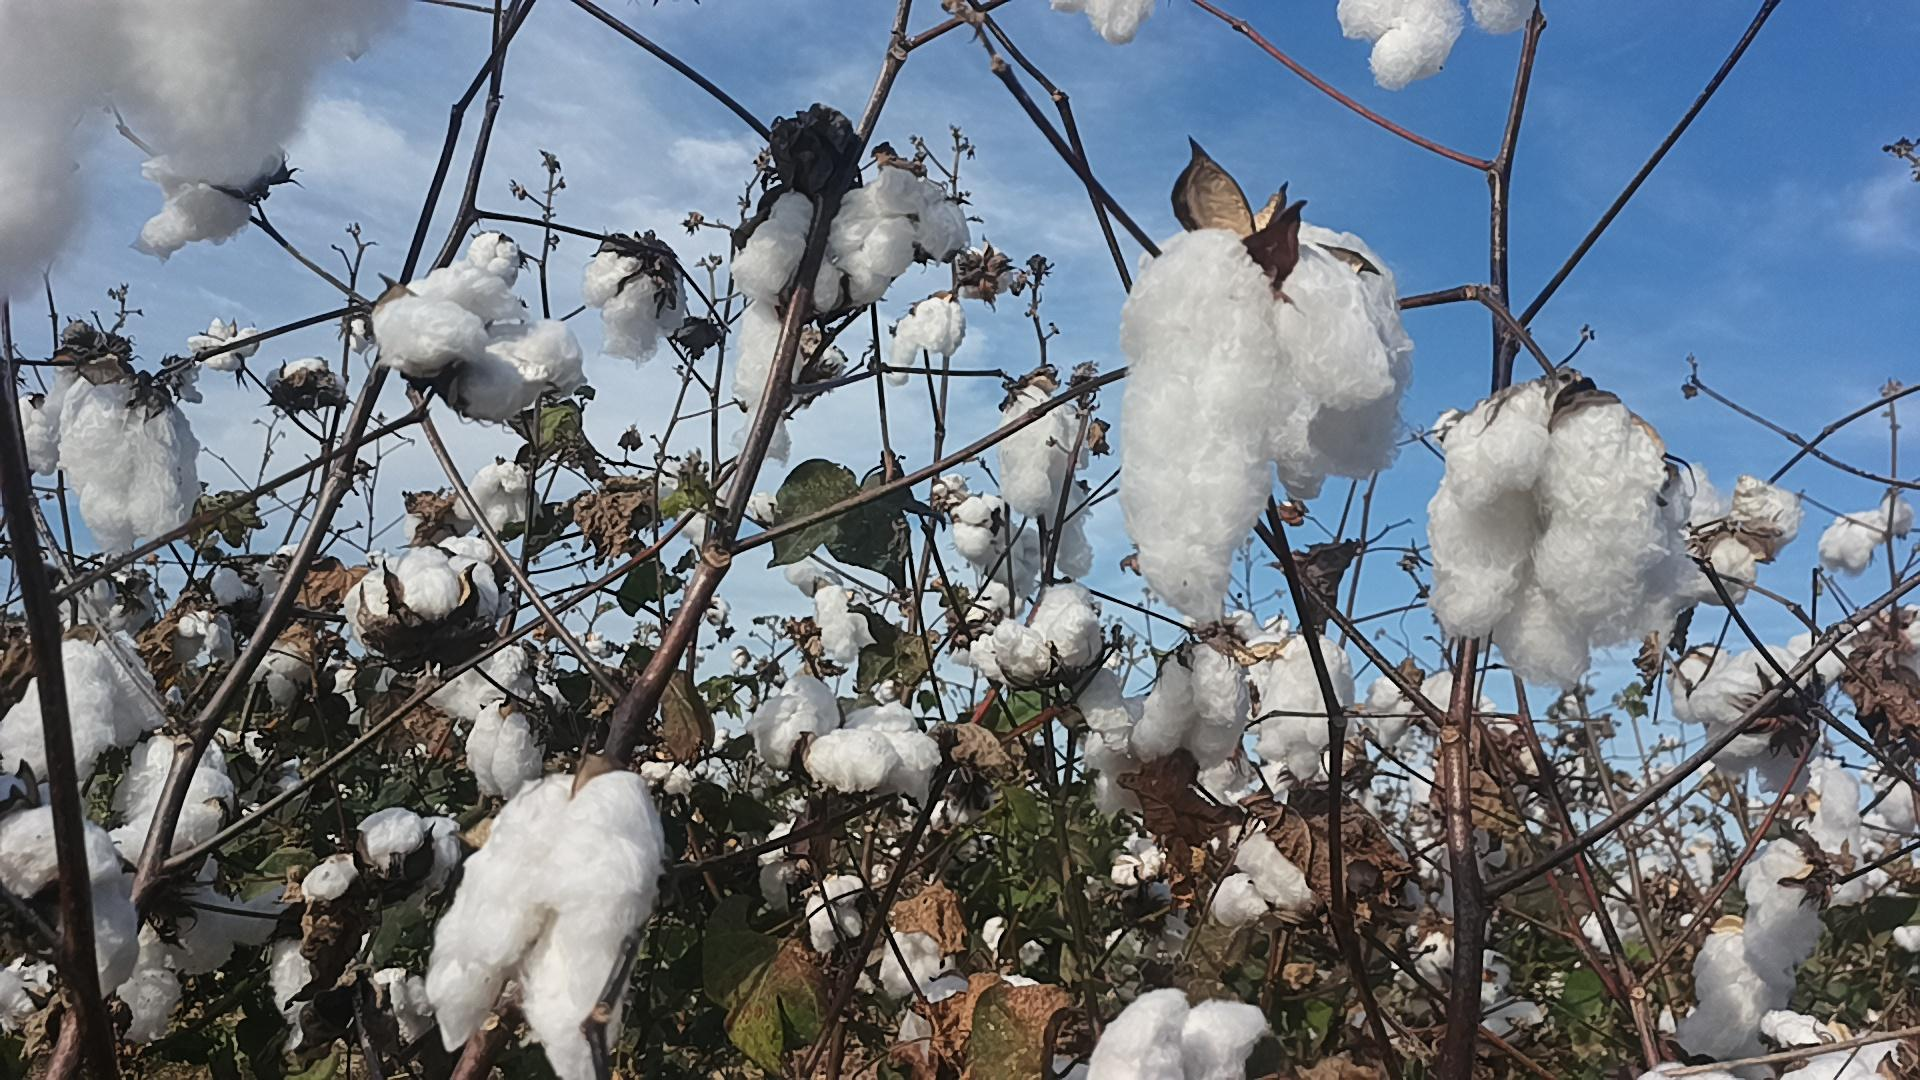cotton_ready: (1116, 220, 1418, 634), (0, 0, 413, 295), (427, 764, 666, 1080), (1425, 381, 1671, 688), (378, 269, 583, 418), (733, 186, 840, 462), (54, 360, 203, 541), (1746, 775, 1866, 998), (0, 811, 142, 994), (0, 630, 166, 783), (878, 928, 1042, 1072), (750, 675, 934, 803), (1673, 646, 1828, 791), (0, 936, 182, 1046), (998, 382, 1096, 579), (828, 166, 973, 293), (1340, 0, 1535, 94), (1084, 985, 1269, 1080), (1677, 465, 1797, 607), (348, 546, 498, 653), (1677, 918, 1776, 1080), (1130, 636, 1250, 769), (301, 804, 456, 906), (136, 876, 287, 977), (113, 728, 231, 858), (1254, 633, 1356, 783), (760, 807, 898, 910), (973, 580, 1105, 683), (1212, 806, 1323, 927), (588, 240, 688, 363), (1762, 1007, 1920, 1080), (1080, 680, 1149, 824), (786, 560, 873, 669), (959, 496, 1043, 600), (1373, 673, 1486, 749), (469, 703, 555, 796), (270, 936, 338, 1051), (423, 644, 533, 713), (891, 298, 968, 384), (1822, 504, 1913, 572), (208, 542, 294, 609), (248, 630, 316, 713), (459, 463, 534, 534), (376, 965, 436, 1052), (1863, 608, 1920, 699), (804, 873, 866, 956), (1054, 0, 1155, 46), (173, 609, 228, 675)
